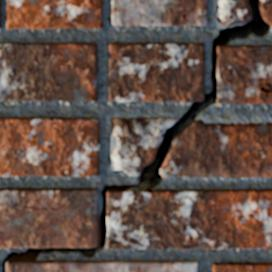brick: (107, 190, 271, 248), (0, 189, 97, 247), (0, 118, 98, 175), (0, 43, 96, 100), (109, 43, 203, 101), (218, 46, 271, 102), (7, 0, 101, 28), (112, 0, 206, 25), (7, 261, 196, 271), (232, 263, 271, 271), (213, 263, 232, 271)
broken_brick: (161, 119, 271, 178), (110, 117, 178, 176), (216, 0, 250, 26), (260, 0, 271, 23)
crack: (1, 0, 271, 271), (124, 118, 148, 154), (181, 0, 196, 19), (250, 48, 271, 51), (229, 263, 235, 271)
